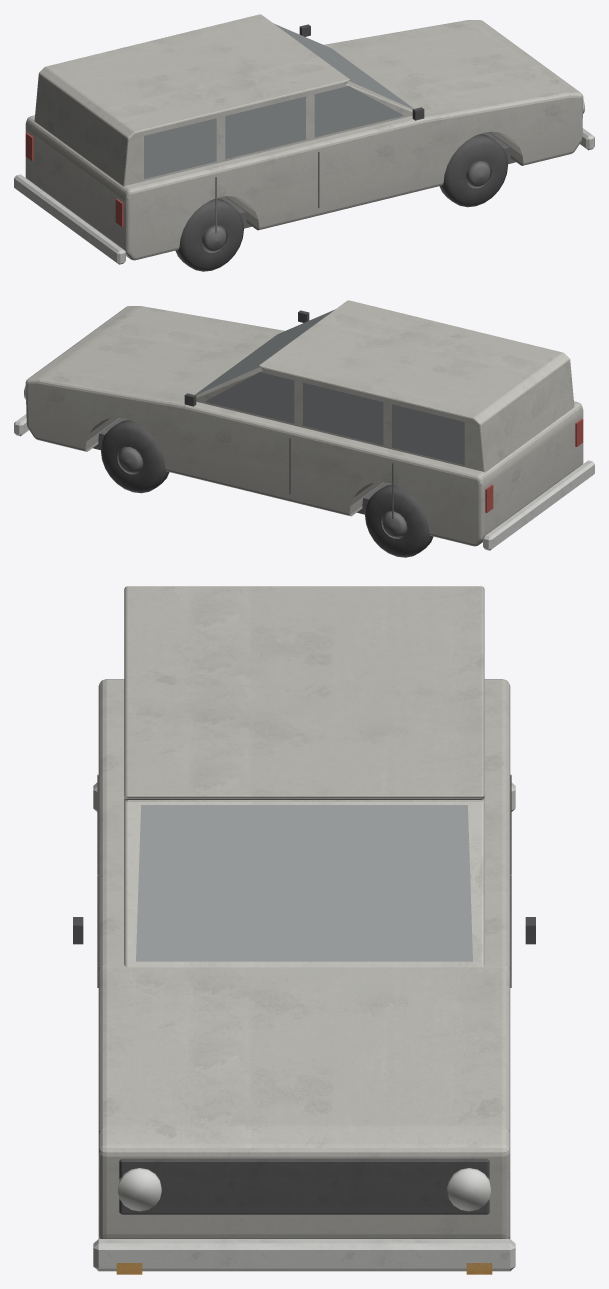
Rendered from BC2_WAGON01.glb.
3 renders of one model, top to bottom at view 1: azimuth 30°, elevation 25°; view 2: azimuth 150°, elevation 25°; view 3: azimuth 270°, elevation 25°, orthographic. The views are drawn at different scales.
Visible parts, largest first — view 1: BC2_WAGON01_paint, BC2_WAGON01_glass, BC2_WAGON01_rubber, BC2_WAGON01_trim, BC2_WAGON01_chrome; view 2: BC2_WAGON01_paint, BC2_WAGON01_glass, BC2_WAGON01_rubber, BC2_WAGON01_trim, BC2_WAGON01_chrome; view 3: BC2_WAGON01_paint, BC2_WAGON01_glass, BC2_WAGON01_trim, BC2_WAGON01_chrome.
Boxes of the visible parts, bbox=[...] form: BC2_WAGON01_paint: bbox=[25, 14, 583, 260]; BC2_WAGON01_glass: bbox=[144, 23, 413, 178]; BC2_WAGON01_rubber: bbox=[175, 134, 507, 271]; BC2_WAGON01_trim: bbox=[25, 24, 515, 252]; BC2_WAGON01_chrome: bbox=[14, 100, 594, 264]; BC2_WAGON01_paint: bbox=[25, 300, 583, 546]; BC2_WAGON01_glass: bbox=[195, 309, 464, 465]; BC2_WAGON01_rubber: bbox=[101, 420, 433, 557]; BC2_WAGON01_trim: bbox=[93, 310, 583, 538]; BC2_WAGON01_chrome: bbox=[14, 386, 594, 550]; BC2_WAGON01_paint: bbox=[98, 586, 510, 1238]; BC2_WAGON01_glass: bbox=[136, 805, 472, 961]; BC2_WAGON01_trim: bbox=[73, 774, 535, 1274]; BC2_WAGON01_chrome: bbox=[93, 782, 515, 1271].
Bounding box in the file's own units: 4.29 × 1.36 × 1.8.
5 materials, 4 textured.
